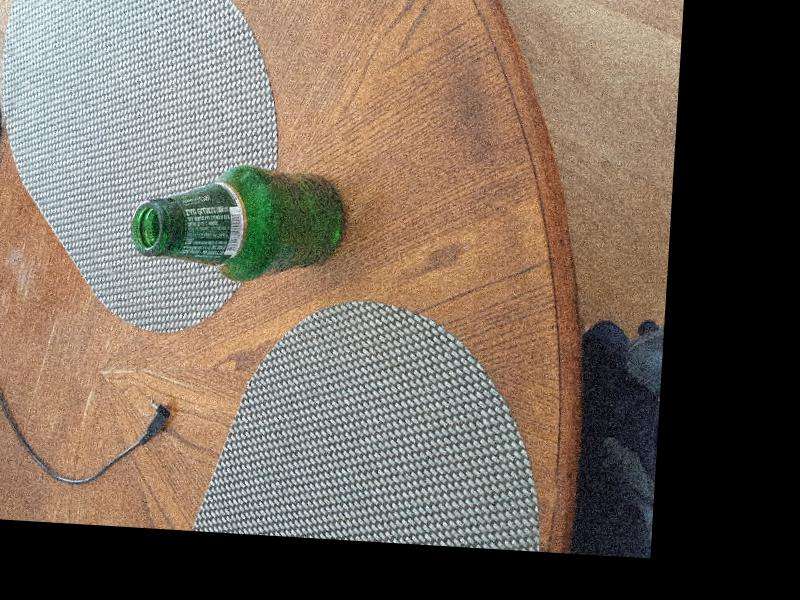Beer: (127, 159, 348, 283)
